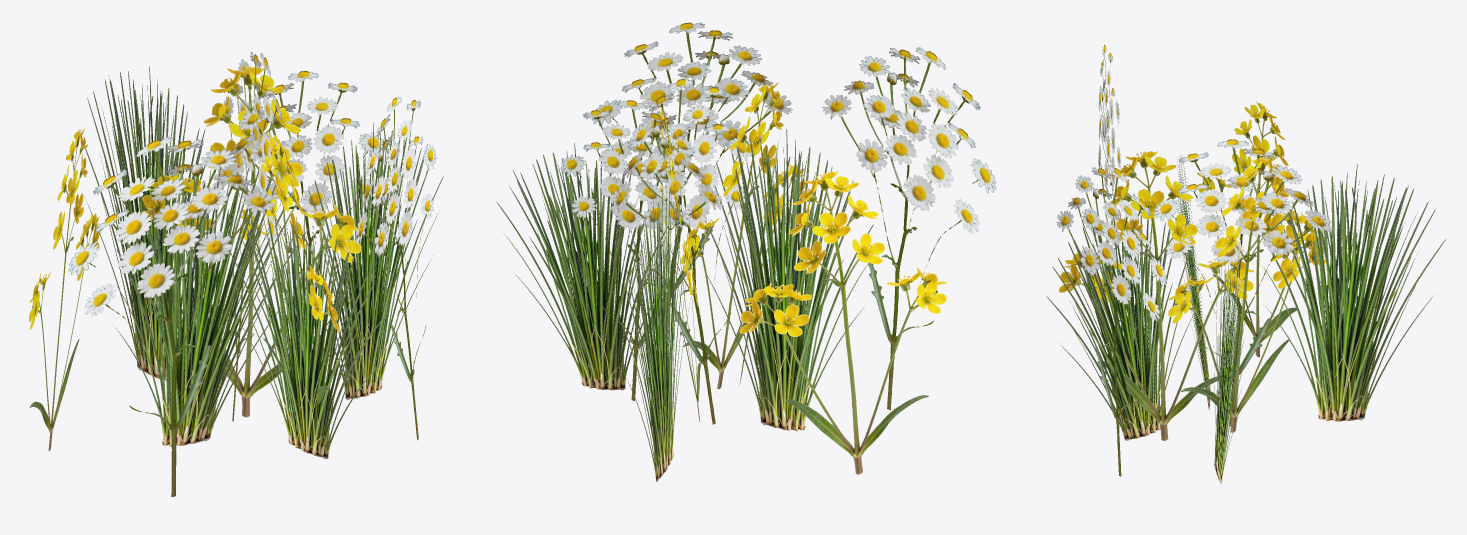
Rendered from flower_clump_01.gltf.
3 renders of one model, left to right at view 1: azimuth 30°, elevation 25°; view 2: azimuth 150°, elevation 25°; view 3: azimuth 270°, elevation 25°, orthographic. The views are drawn at different scales.
Visible parts, largest first — view 1: flower_clump_01; view 2: flower_clump_01; view 3: flower_clump_01.
Boxes of the visible parts, <box> form: flower_clump_01: <box>28,52,443,496</box>; flower_clump_01: <box>496,22,996,481</box>; flower_clump_01: <box>1046,45,1445,484</box>.
Bounding box in the file's own units: 0.5334 × 0.4226 × 0.4816.
1 material, 1 textured.
